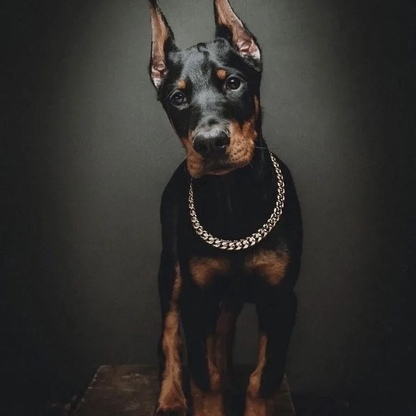doberman: (139, 9, 309, 416)
